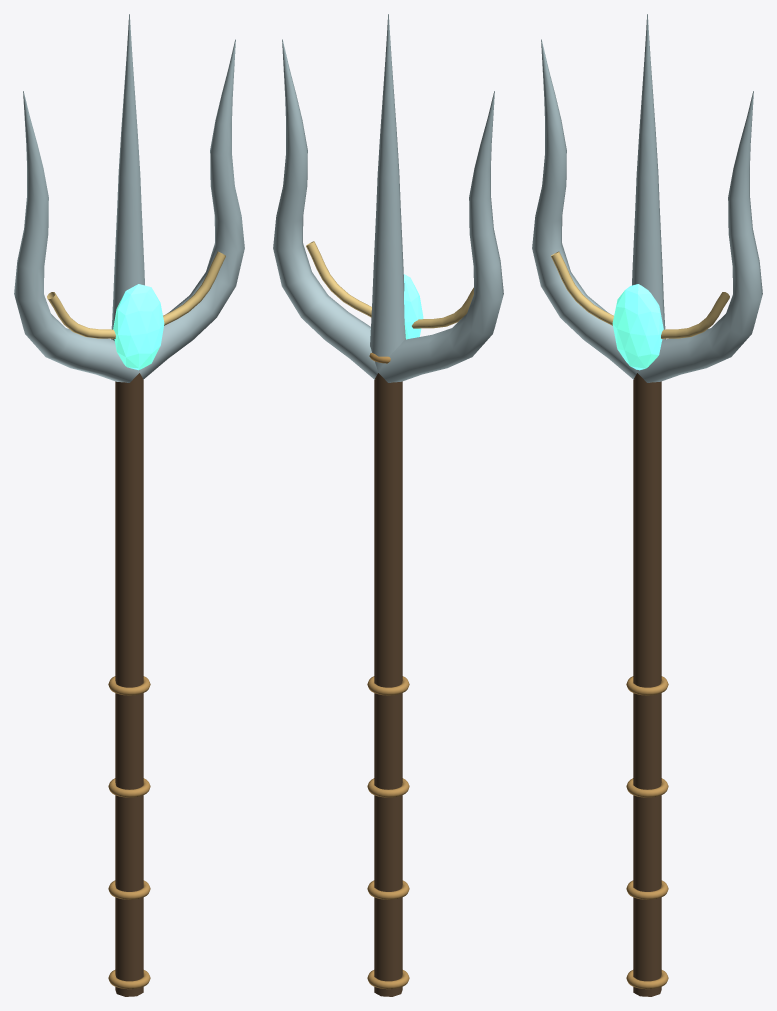
The model's file is Trident.fbx.
3 views of the same model, side by side, from view 1: azimuth 30°, elevation 25°; view 2: azimuth 150°, elevation 25°; view 3: azimuth 330°, elevation 25° (orthographic).
Visible parts, largest first — view 1: Ashwood shaft_export, Forged ocean prong_export, Forged ocean prong.002_export, Forged ocean prong.001_export, Tidal core_export, Spiral ornament.001_export, Spiral ornament_export; view 2: Ashwood shaft_export, Forged ocean prong.002_export, Forged ocean prong_export, Forged ocean prong.001_export, Spiral ornament.001_export, Tidal core_export, Spiral ornament_export; view 3: Ashwood shaft_export, Forged ocean prong.002_export, Forged ocean prong_export, Forged ocean prong.001_export, Tidal core_export, Spiral ornament_export, Spiral ornament.001_export.
Part boxes in pixels (x1,y1,x2,y2): Ashwood shaft_export: (115, 373, 143, 996); Forged ocean prong_export: (14, 91, 139, 382); Forged ocean prong.002_export: (139, 39, 244, 379); Forged ocean prong.001_export: (111, 14, 144, 372); Tidal core_export: (113, 284, 164, 370); Spiral ornament.001_export: (163, 251, 225, 325); Spiral ornament_export: (47, 292, 115, 338); Ashwood shaft_export: (374, 373, 402, 996); Forged ocean prong.002_export: (273, 39, 378, 379); Forged ocean prong_export: (378, 91, 503, 382); Forged ocean prong.001_export: (370, 14, 405, 372); Spiral ornament.001_export: (306, 241, 371, 317); Tidal core_export: (403, 274, 423, 339); Spiral ornament_export: (412, 287, 473, 328); Ashwood shaft_export: (633, 373, 661, 996); Forged ocean prong.002_export: (637, 91, 762, 382); Forged ocean prong_export: (532, 39, 637, 379); Forged ocean prong.001_export: (632, 14, 665, 372); Tidal core_export: (612, 284, 663, 370); Spiral ornament_export: (551, 251, 613, 325); Spiral ornament.001_export: (661, 292, 729, 338).
Size of the model in its own units: 187 by 765 by 40.
